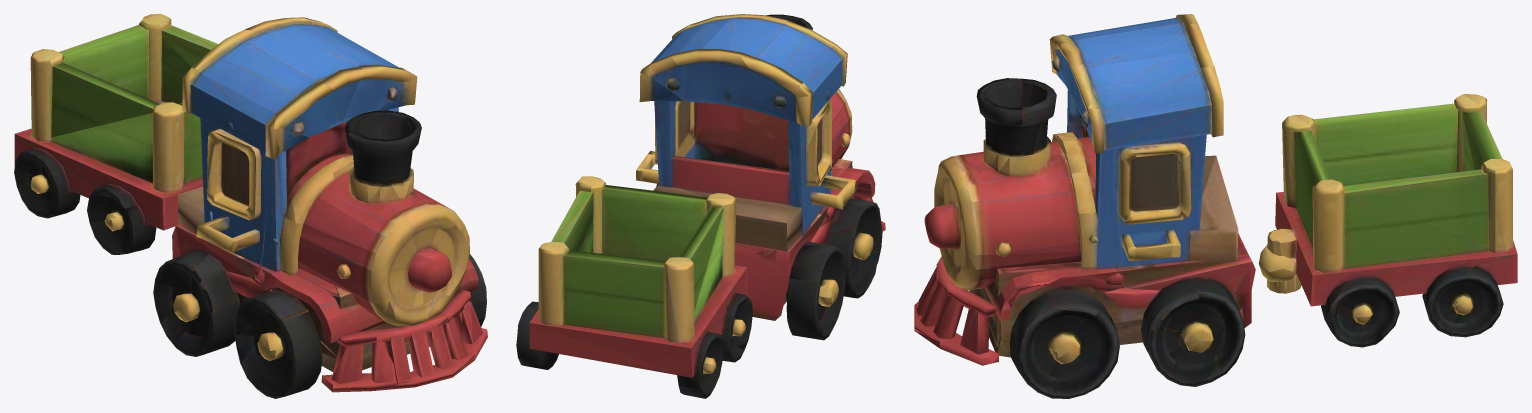
File: trade_train.glb
The picture shows the model from 3 angles, left to right: view 1: azimuth 30°, elevation 25°; view 2: azimuth 150°, elevation 25°; view 3: azimuth 270°, elevation 25°; orthographic projection. The views are drawn at different scales.
Bounding box in the file's own units: 0.4932 × 0.5625 × 1.
Materials: 1 (1 with a texture image).
